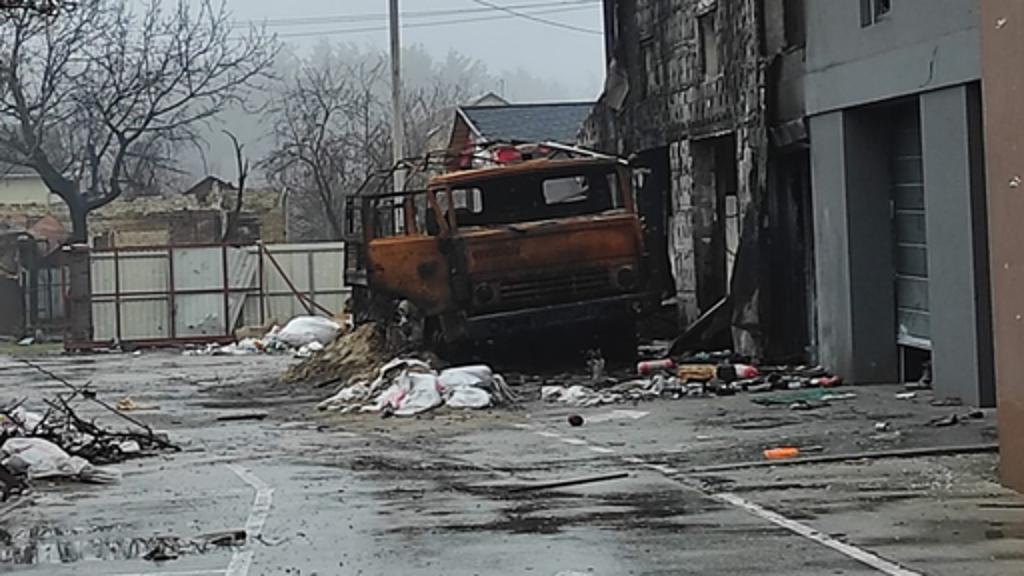TRUCK: (340, 144, 654, 382)
